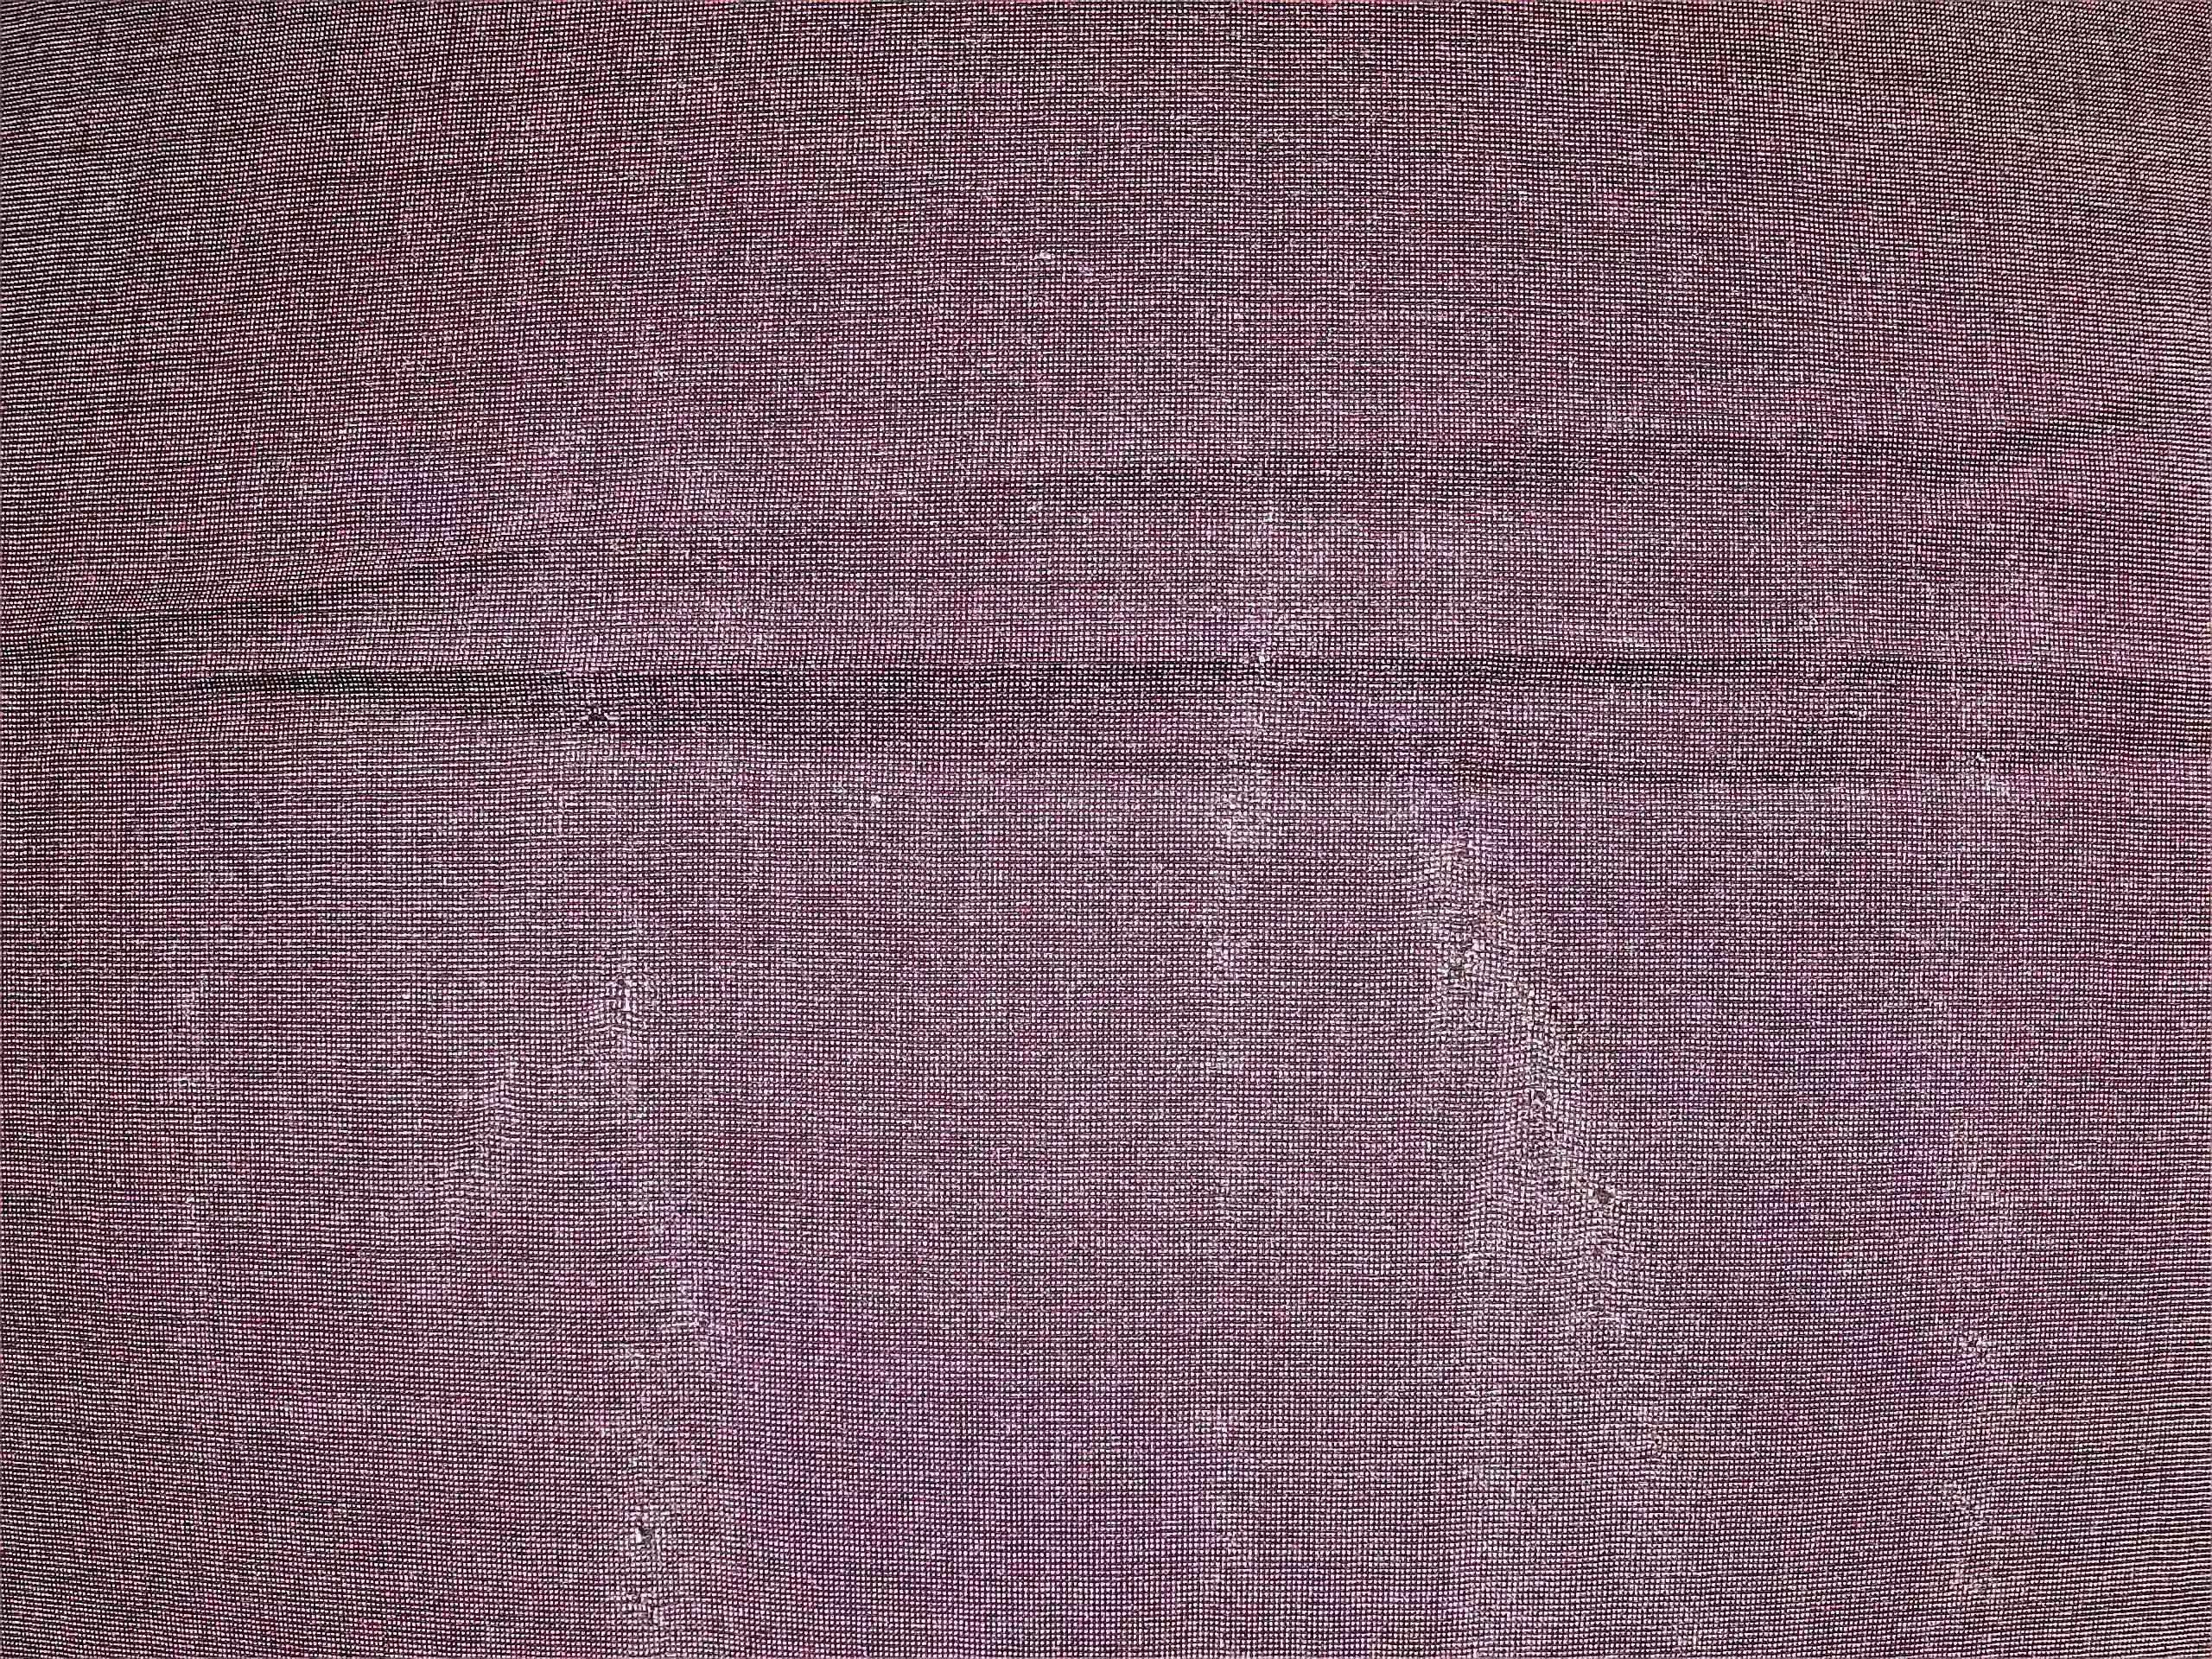rubbing-hole: (1392, 793, 1683, 1302), (599, 1492, 691, 1636), (1939, 1474, 2034, 1612), (568, 950, 681, 1056), (1214, 615, 1298, 718), (1933, 1307, 2015, 1382), (550, 687, 634, 756)
